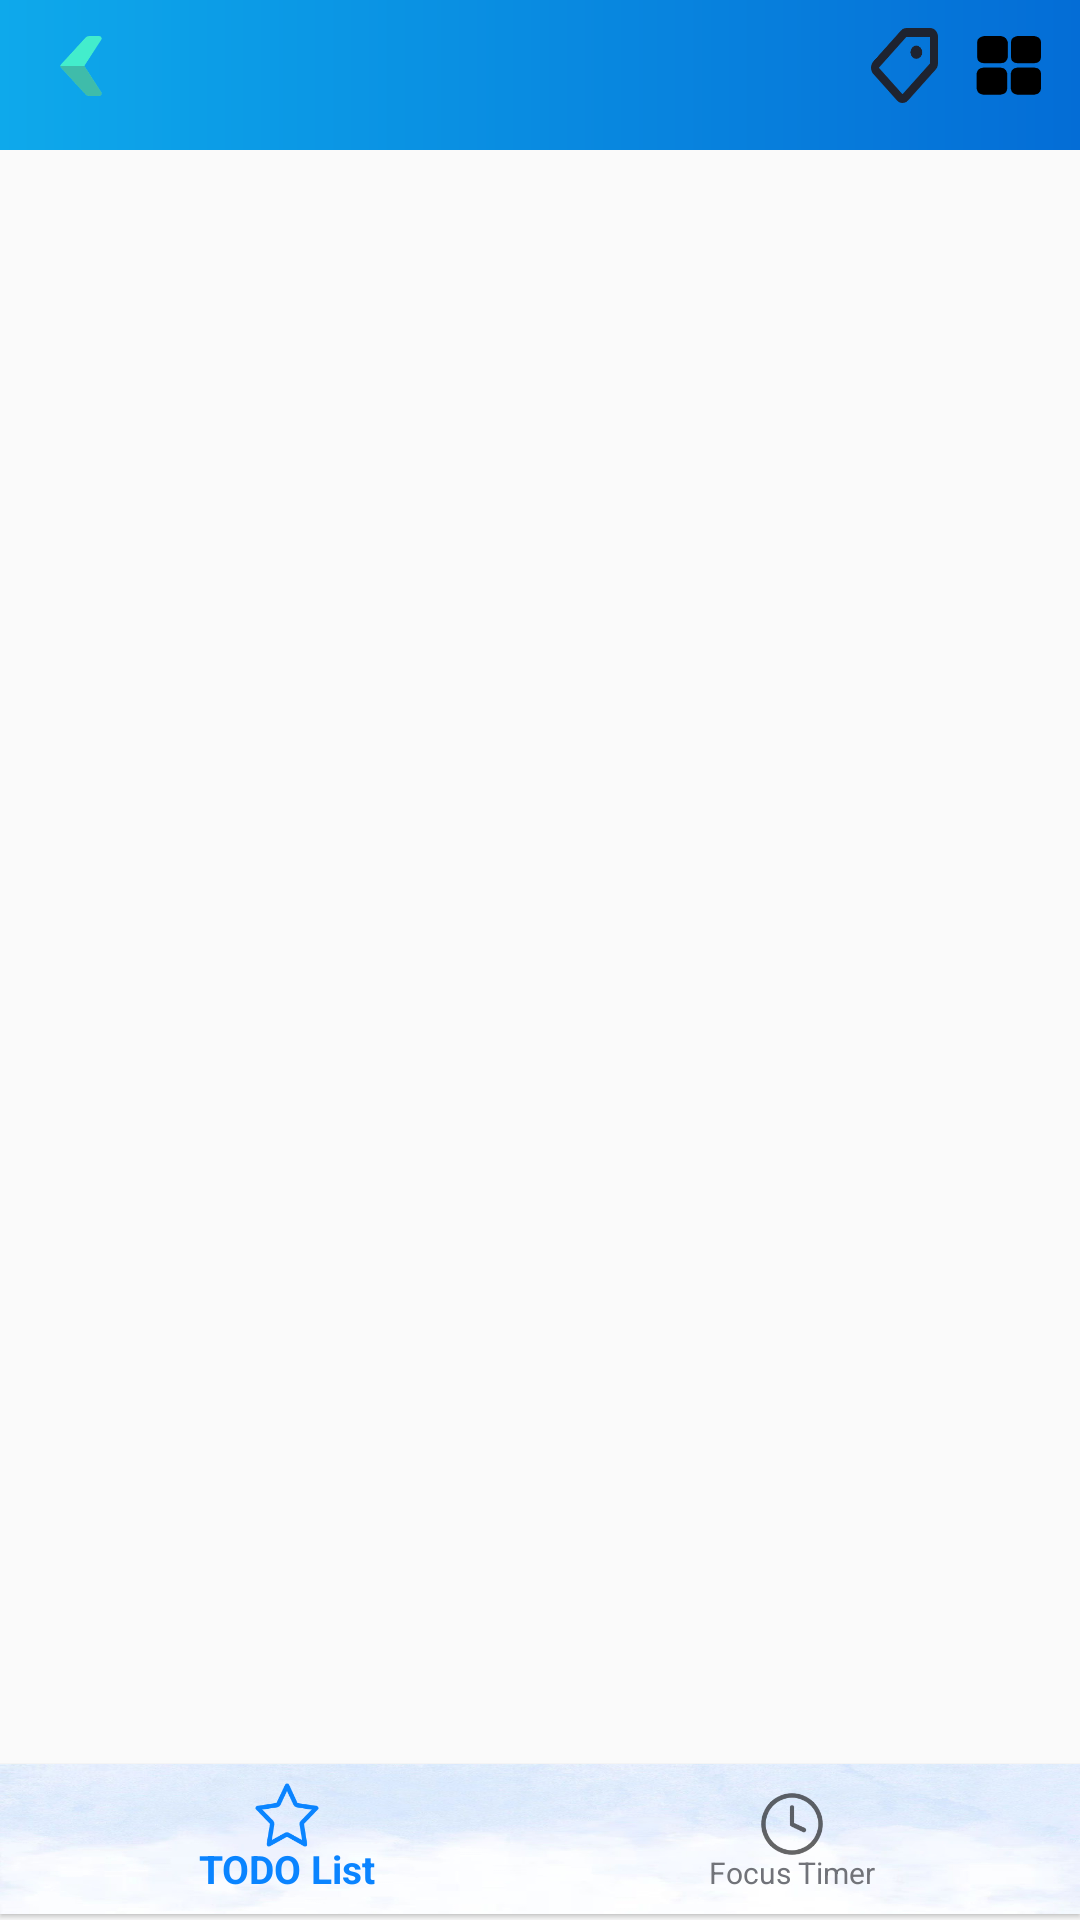

Where icons sit on this 1080w x 1920h app screen, as bbox=[x1, y1, x2, y2]:
backward: bbox=[60, 36, 102, 96]
label: bbox=[871, 28, 938, 103]
menu: bbox=[976, 36, 1041, 95]
